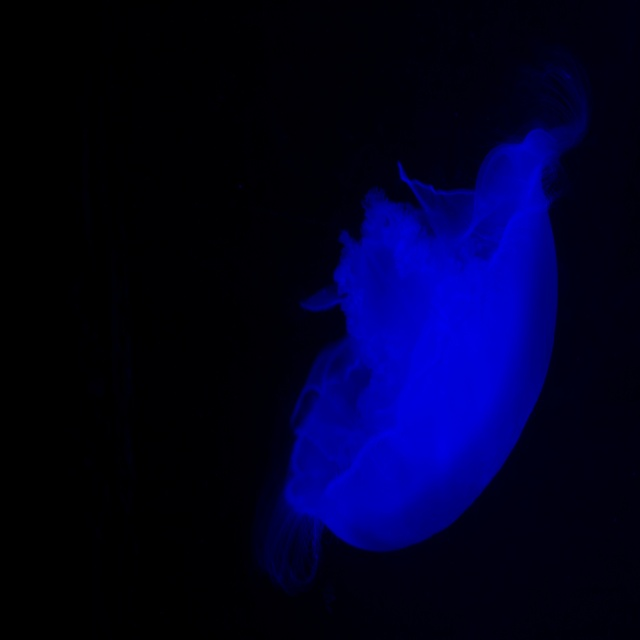Jellyfish: (258, 62, 590, 596)
